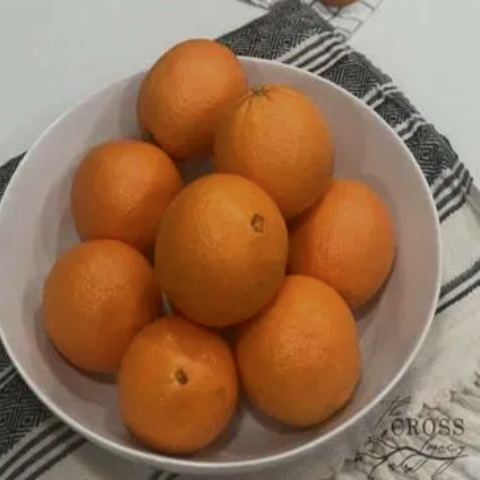orange: (150, 169, 294, 325), (263, 163, 419, 301), (229, 267, 361, 429), (110, 299, 239, 456), (22, 234, 165, 371), (132, 32, 255, 153)
